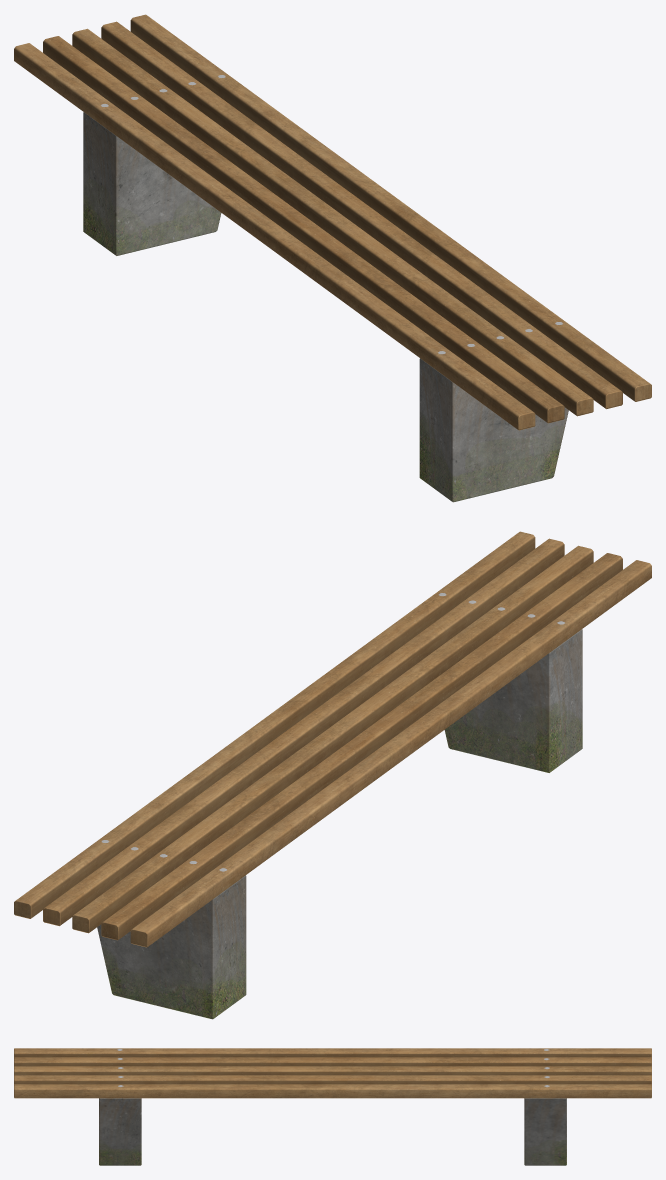
The model's file is outdoor_bench.glb.
3 views of the same model, one above another, from view 1: azimuth 30°, elevation 25°; view 2: azimuth 150°, elevation 25°; view 3: azimuth 270°, elevation 25° (orthographic). The views are drawn at different scales.
Parts seen in each view (by area): view 1: bench; view 2: bench; view 3: bench.
Boxes of the visible parts, bbox=[...] form: bench: bbox=[14, 14, 651, 502]; bench: bbox=[14, 531, 651, 1019]; bench: bbox=[14, 1048, 651, 1165].
Size of the model in its own units: 0.2896 by 0.2833 by 1.89.
Materials: 1 (1 with a texture image).
